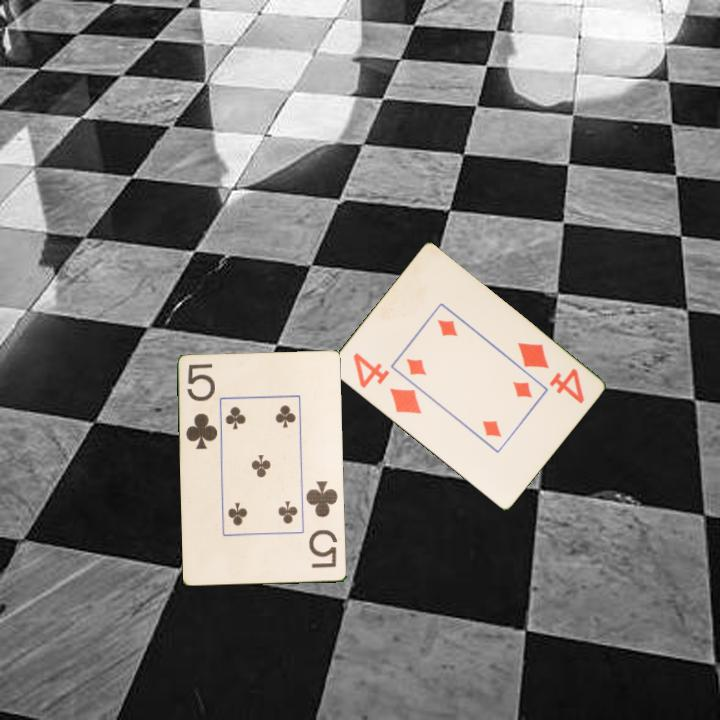4d: (349, 349, 424, 417), (513, 339, 587, 407)
5c: (303, 477, 341, 571), (183, 360, 221, 453)
